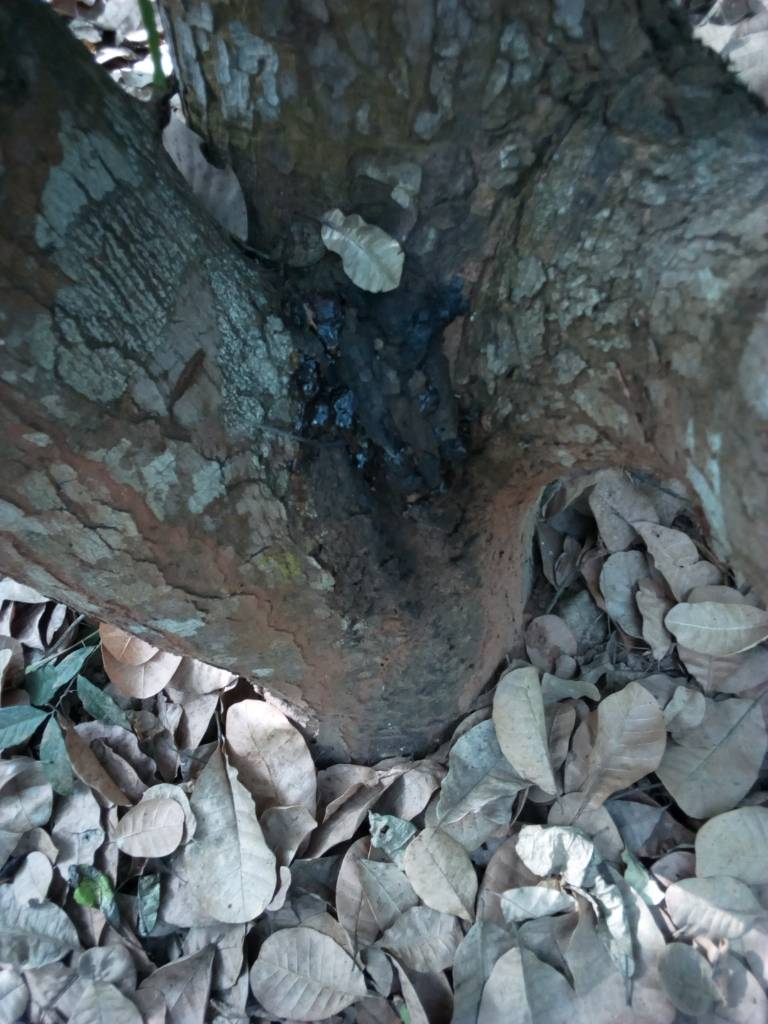Gommose: (282, 283, 466, 578)
